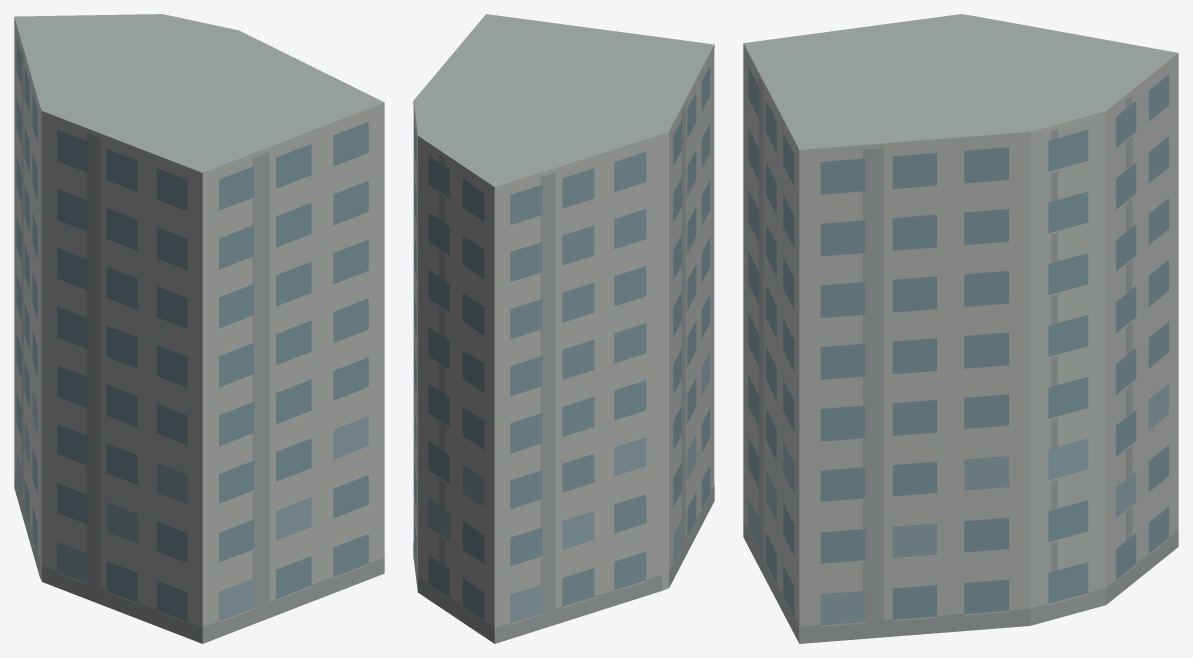
The model's file is survey-upis-32826811.glb.
3 renders of one model, left to right at view 1: azimuth 30°, elevation 25°; view 2: azimuth 150°, elevation 25°; view 3: azimuth 270°, elevation 25°, orthographic. The views are drawn at different scales.
Parts seen in each view (by area): view 1: survey-upis-32826811.tmp; view 2: survey-upis-32826811.tmp; view 3: survey-upis-32826811.tmp.
Part boxes in pixels (box(x1,y1,x2,y2)): survey-upis-32826811.tmp: box(14, 14, 384, 643); survey-upis-32826811.tmp: box(413, 14, 714, 643); survey-upis-32826811.tmp: box(743, 14, 1178, 643).
Bounding box in the file's own units: 14.76 × 25 × 19.97.
